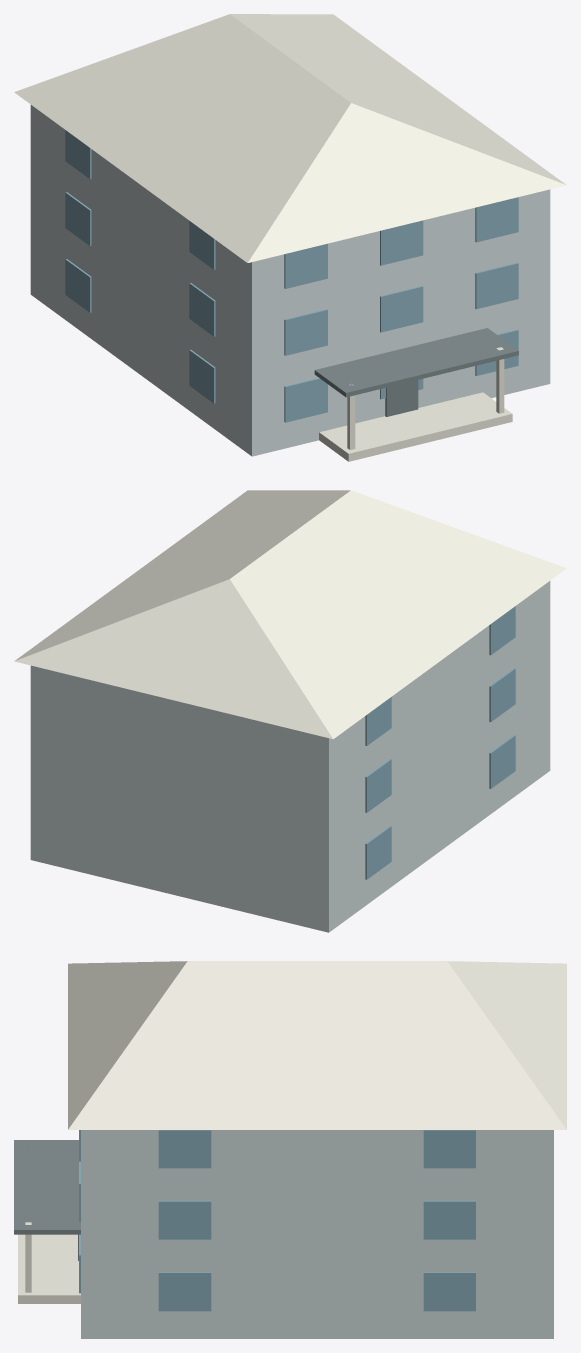
The picture shows the model from 3 angles, top to bottom: view 1: azimuth 30°, elevation 25°; view 2: azimuth 150°, elevation 25°; view 3: azimuth 270°, elevation 25°; orthographic projection. The views are drawn at different scales.
Bounding box in the file's own units: 15 × 12.6 × 21.05.
